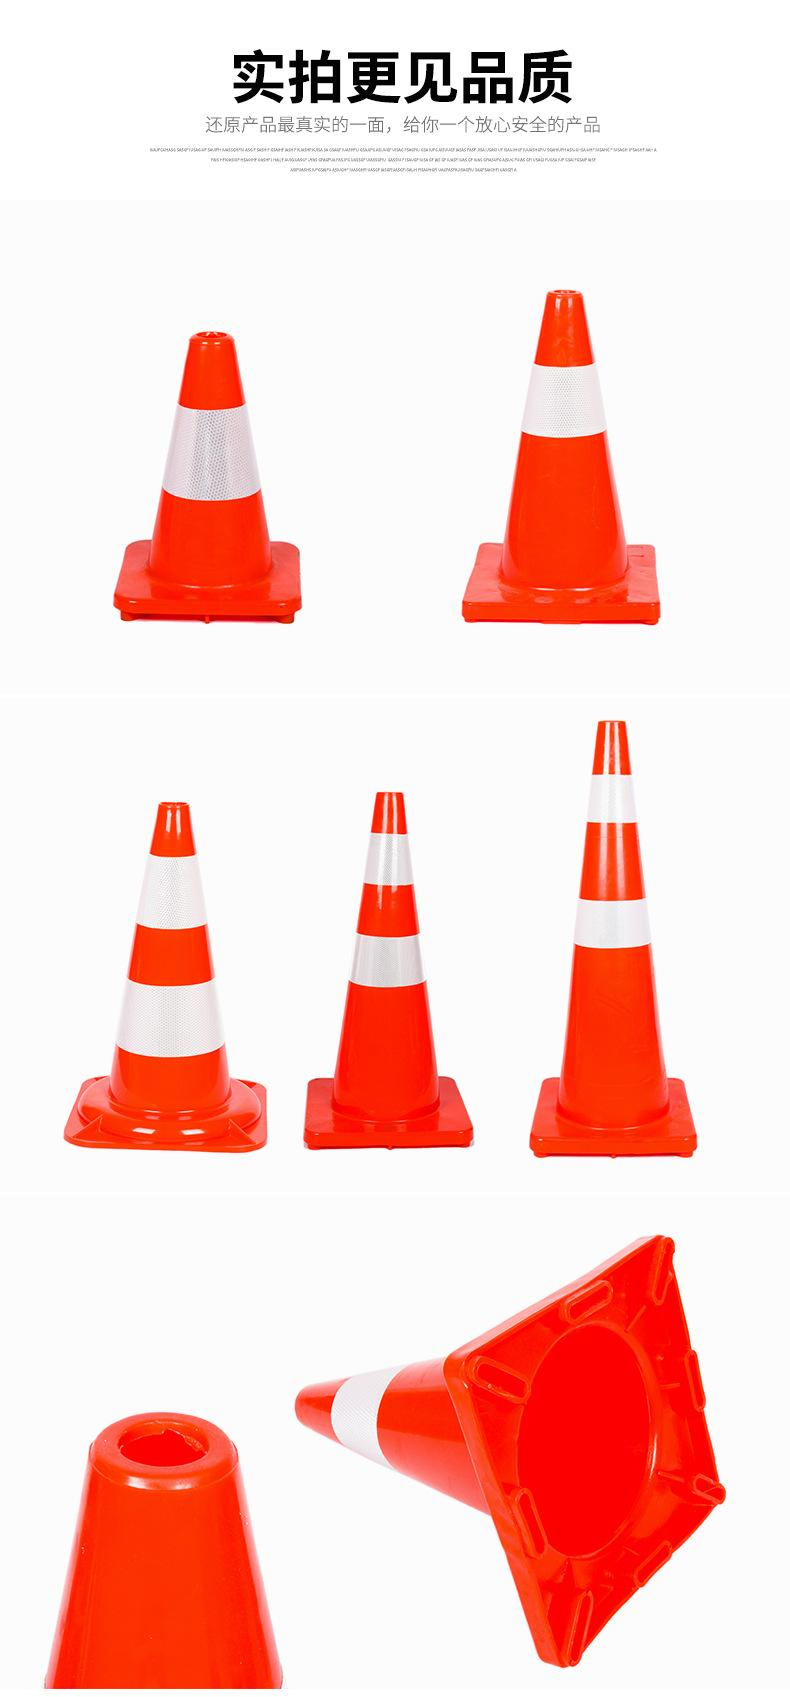sign: (279, 1234, 749, 1676), (523, 706, 705, 1186), (51, 790, 269, 1169), (93, 316, 325, 660), (458, 288, 675, 639), (300, 792, 477, 1176)
